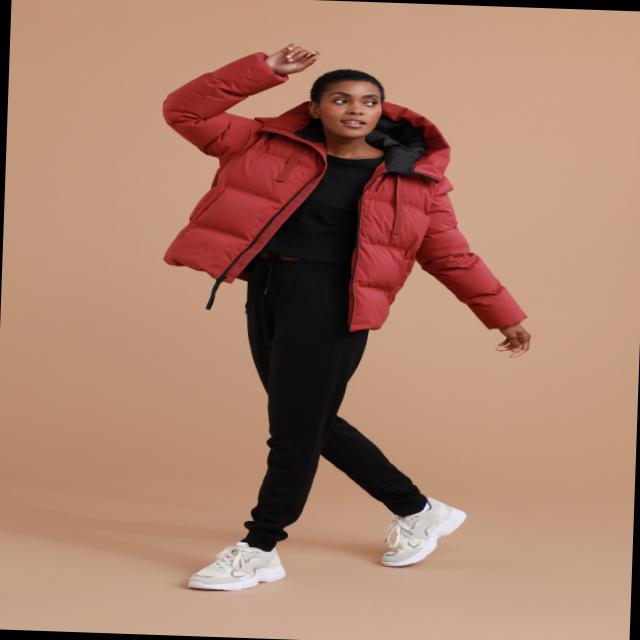Jacket: (156, 42, 556, 370)
